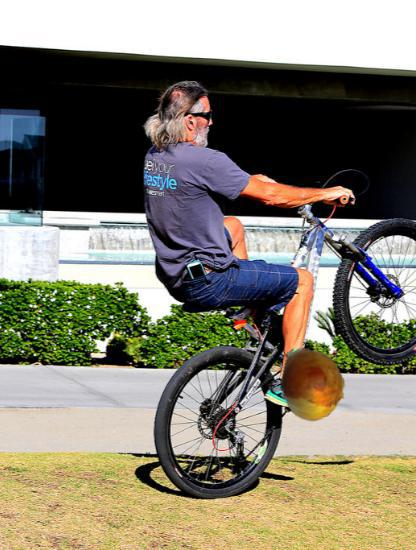Onion: (275, 347, 351, 423)
